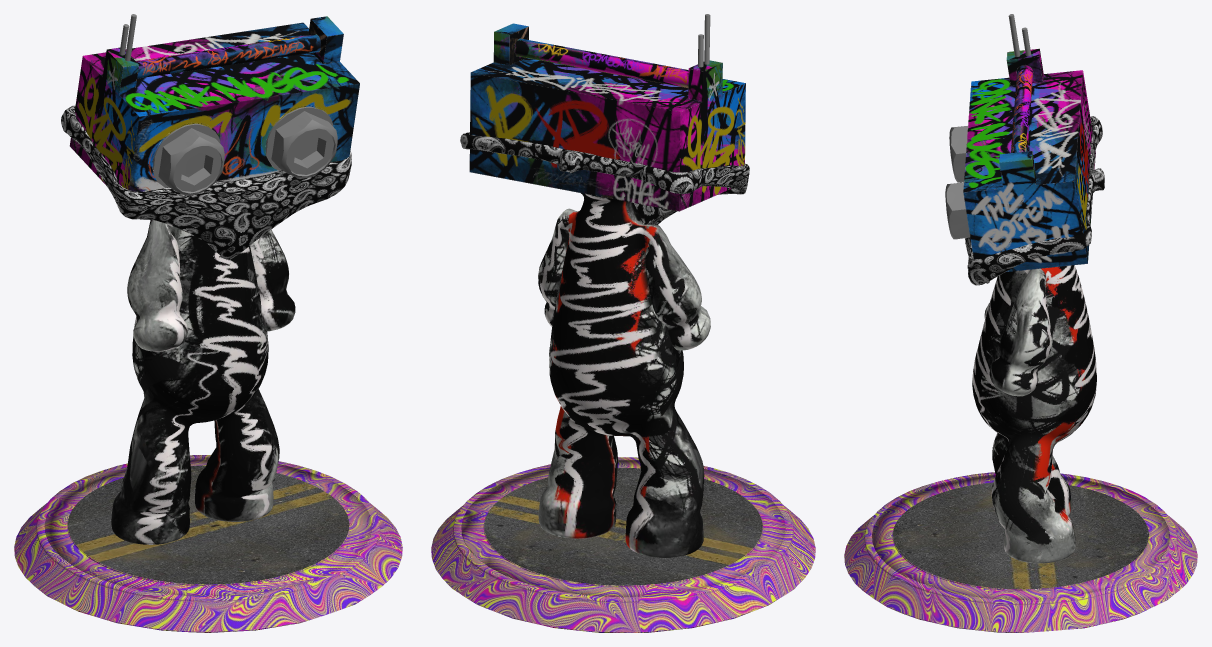
3 renders of one model, left to right at view 1: azimuth 30°, elevation 25°; view 2: azimuth 150°, elevation 25°; view 3: azimuth 270°, elevation 25°, orthographic. The views are drawn at different scales.
Visible parts, largest first — view 1: BBody; view 2: BBody; view 3: BBody.
Part boxes in pixels (x1,y1,x2,y2): BBody: (14,14,402,632); BBody: (431,14,815,632); BBody: (844,14,1197,632).
Bounding box in the file's own units: 1.45 × 2.3 × 1.45.
6 materials, 5 textured.
